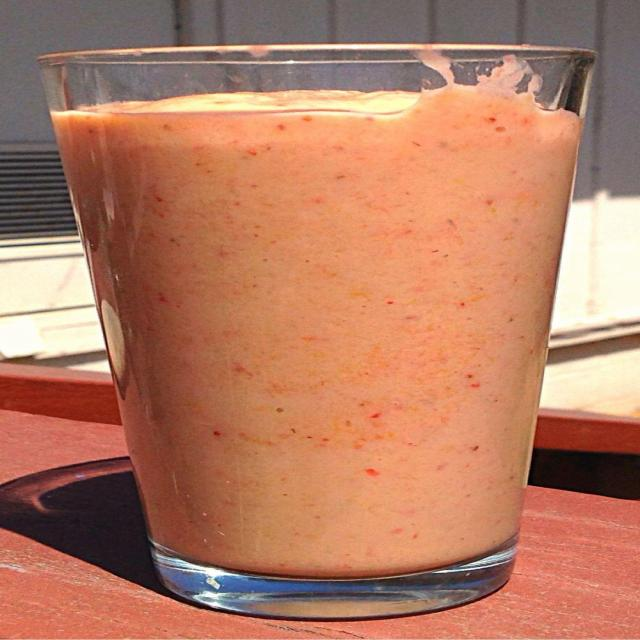glass-normal: (28, 32, 598, 624)
